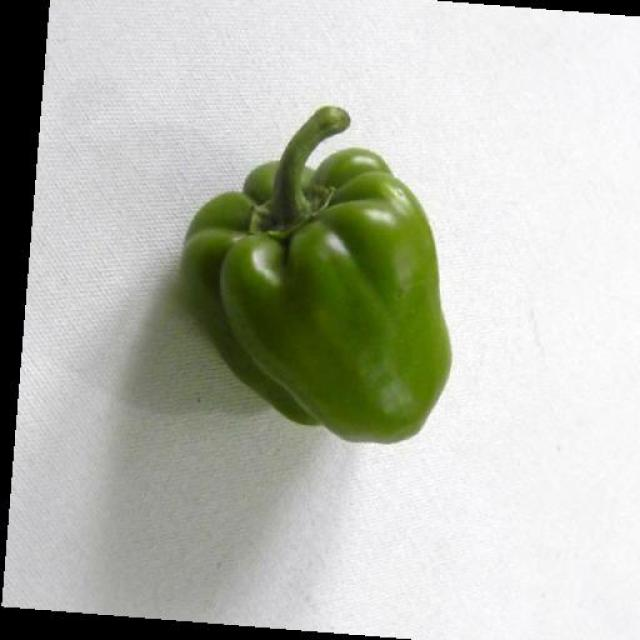Fresh_Capsicum: (203, 89, 457, 453)
